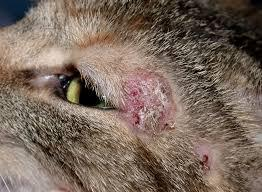ringworm: (113, 61, 177, 134), (197, 147, 215, 173)
